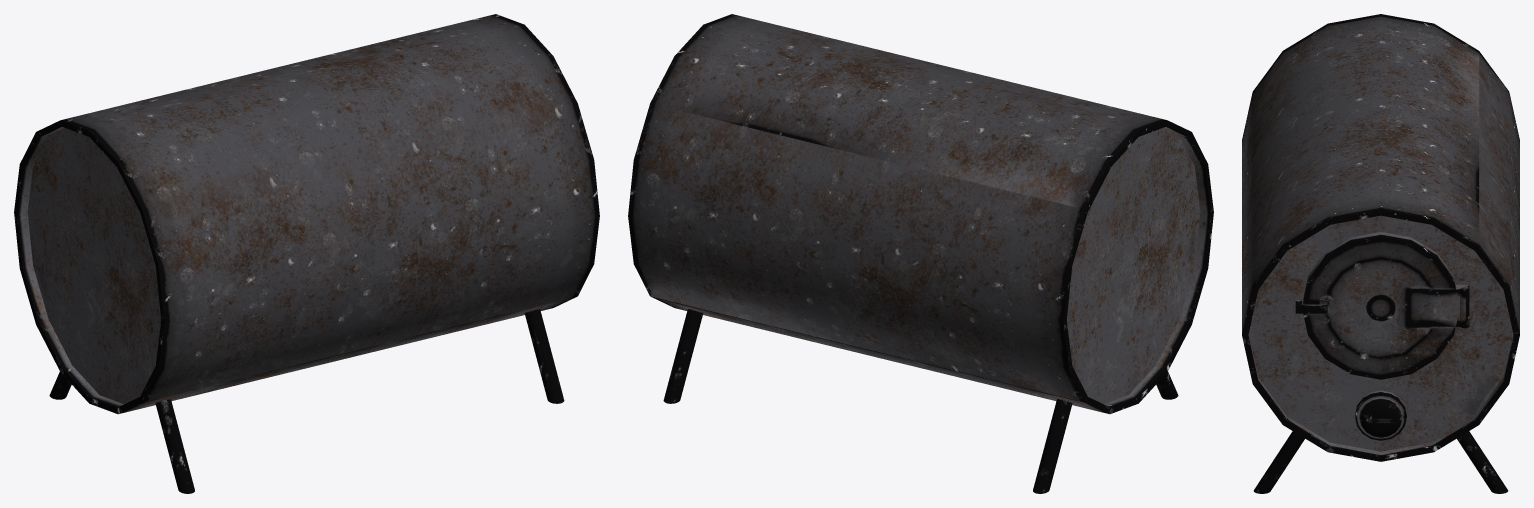
The model's file is vv_silo_b.glb.
3 views of the same model, side by side, from view 1: azimuth 30°, elevation 25°; view 2: azimuth 150°, elevation 25°; view 3: azimuth 270°, elevation 25° (orthographic). The views are drawn at different scales.
Visible parts, largest first — view 1: OldIndustrySilo_low_0; view 2: OldIndustrySilo_low_0; view 3: OldIndustrySilo_low_0.
Part boxes in pixels (x1=…): OldIndustrySilo_low_0: x1=14, y1=14, x2=599, y2=493; OldIndustrySilo_low_0: x1=628, y1=14, x2=1213, y2=493; OldIndustrySilo_low_0: x1=1242, y1=14, x2=1519, y2=493.
Size of the model in its own units: 3.38 by 2.35 by 2.
Materials: 1 (1 with a texture image).
